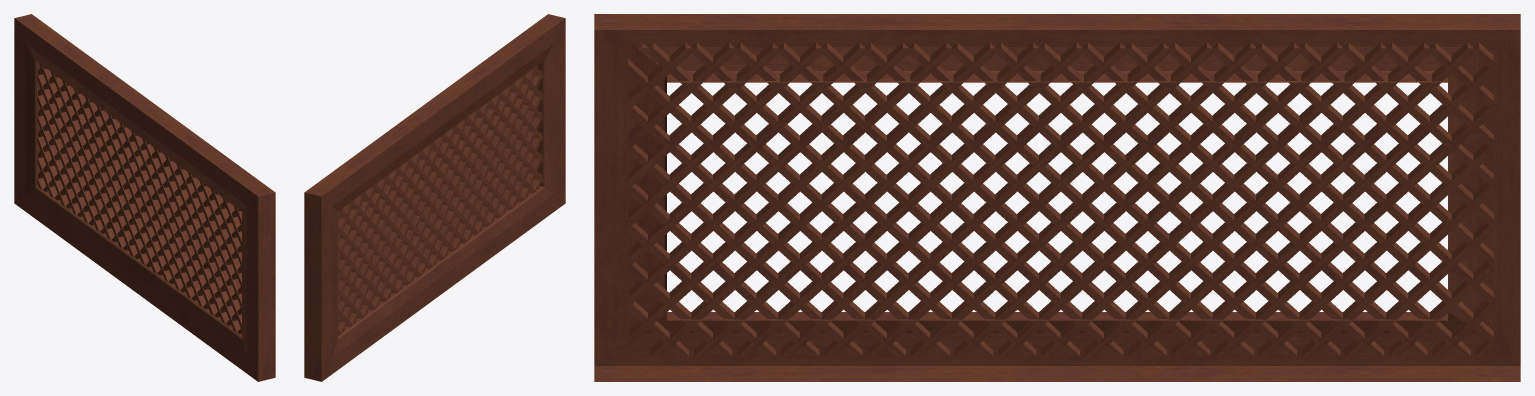
File: SM_Window02M.fbx
The picture shows the model from 3 angles, left to right: view 1: azimuth 30°, elevation 25°; view 2: azimuth 150°, elevation 25°; view 3: azimuth 270°, elevation 25°; orthographic projection. The views are drawn at different scales.
Visible parts, largest first — view 1: SM_Window02M; view 2: SM_Window02M; view 3: SM_Window02M.
Boxes of the visible parts, x1,y1,x2,y2 form: SM_Window02M: (14,14,275,381); SM_Window02M: (304,14,565,381); SM_Window02M: (594,14,1520,381).
Size of the model in its own units: 4.36 by 107 by 44.7.
Materials: 1 (1 with a texture image).
